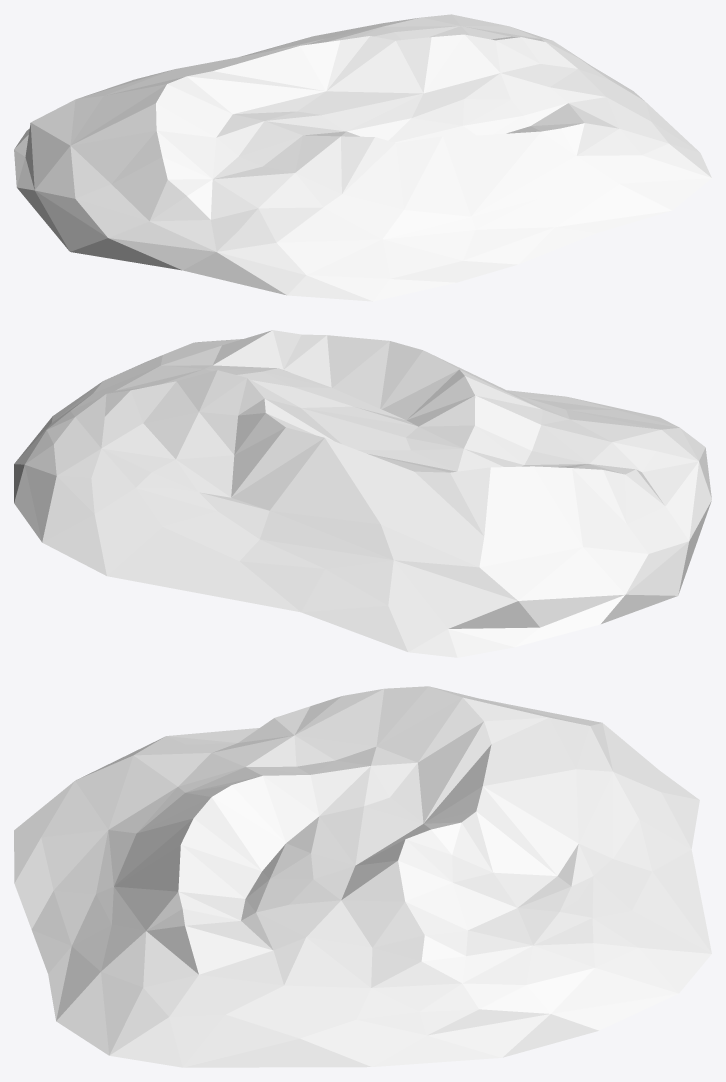
Rendered from snow_sand_003.fbx.
3 renders of one model, top to bottom at view 1: azimuth 30°, elevation 25°; view 2: azimuth 150°, elevation 25°; view 3: azimuth 270°, elevation 25°, orthographic. The views are drawn at different scales.
Visible parts, largest first — view 1: snow_sand_003; view 2: snow_sand_003; view 3: snow_sand_003.
Part boxes in pixels (x1,y1,x2,y2): snow_sand_003: (14,14,711,301); snow_sand_003: (14,330,711,657); snow_sand_003: (14,686,711,1067).
Size of the model in its own units: 3081 by 2643 by 596.
